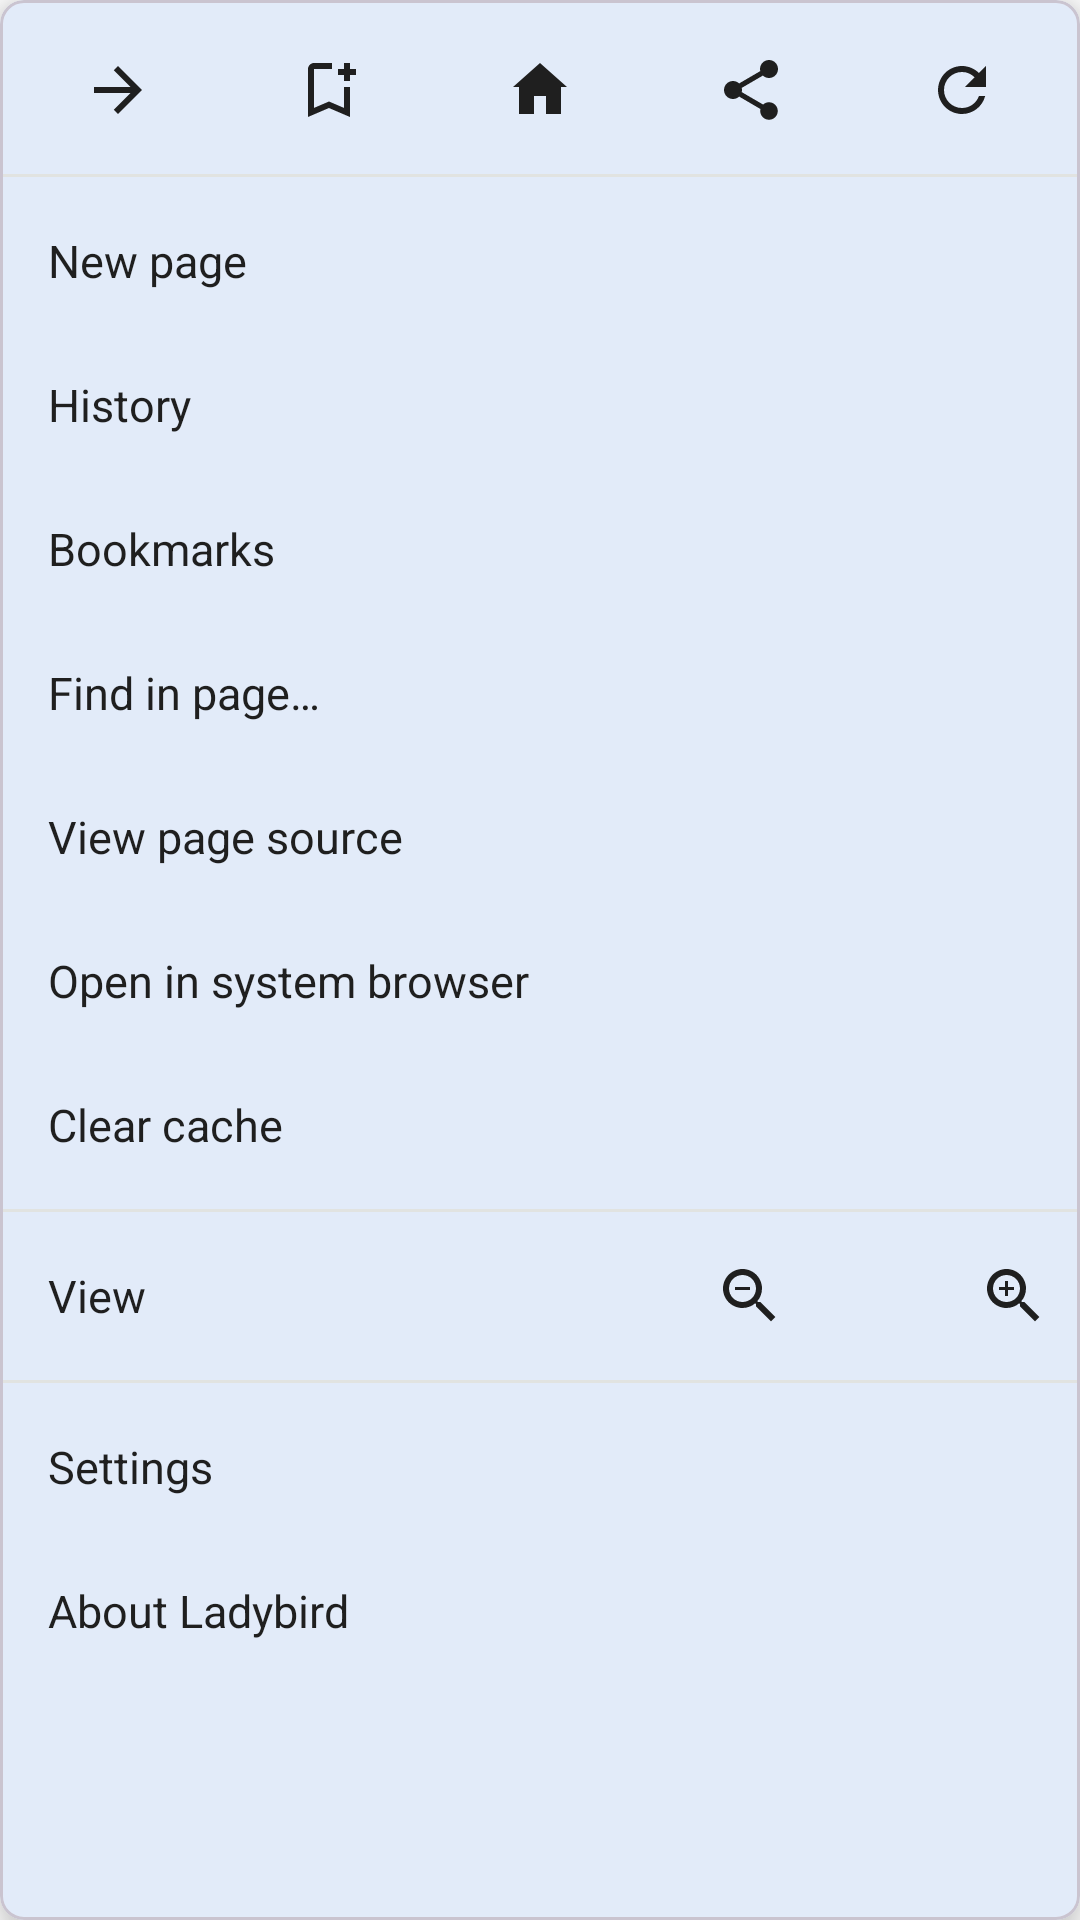

Where to tap for icons on this 1080px×1920px app screen, as (x,y):
Add bookmark: (332,90)
Forward: (118,90)
Home: (540,88)
Reload: (962,90)
Share link: (751,90)
Zoom in: (1013,1295)
Zoom out: (749,1295)
